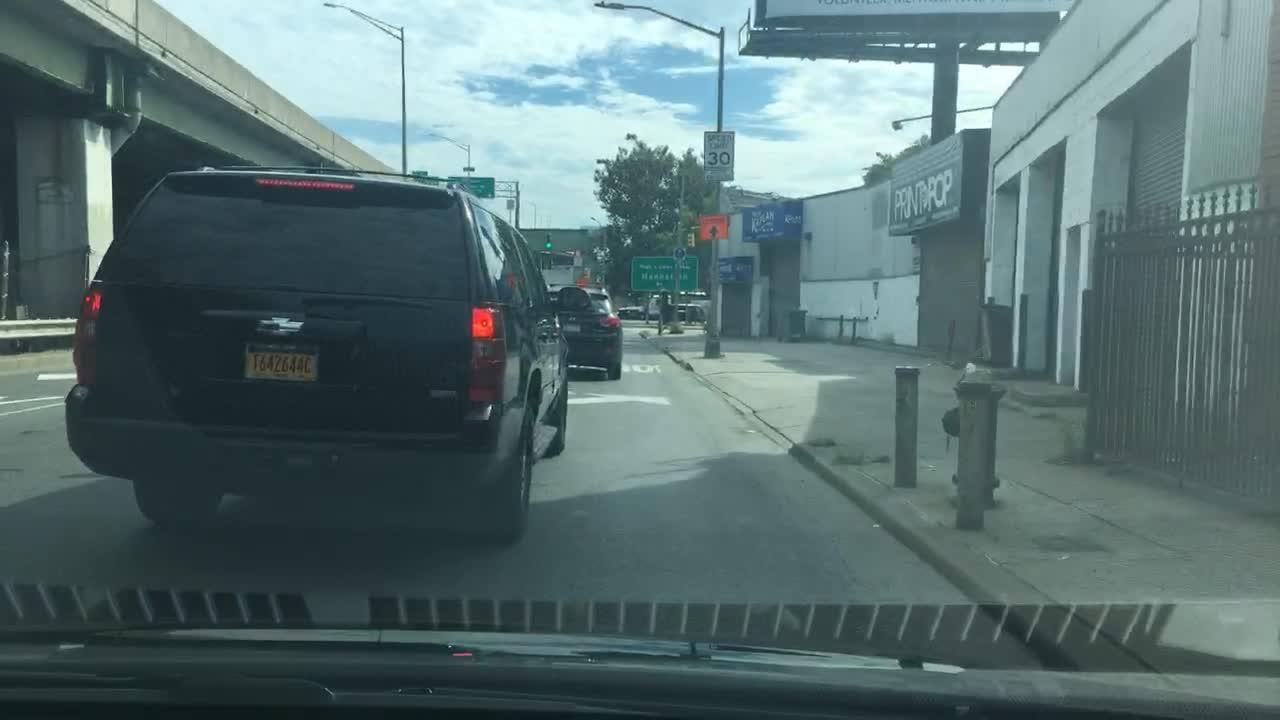chevrolet: (249, 309, 308, 343)
